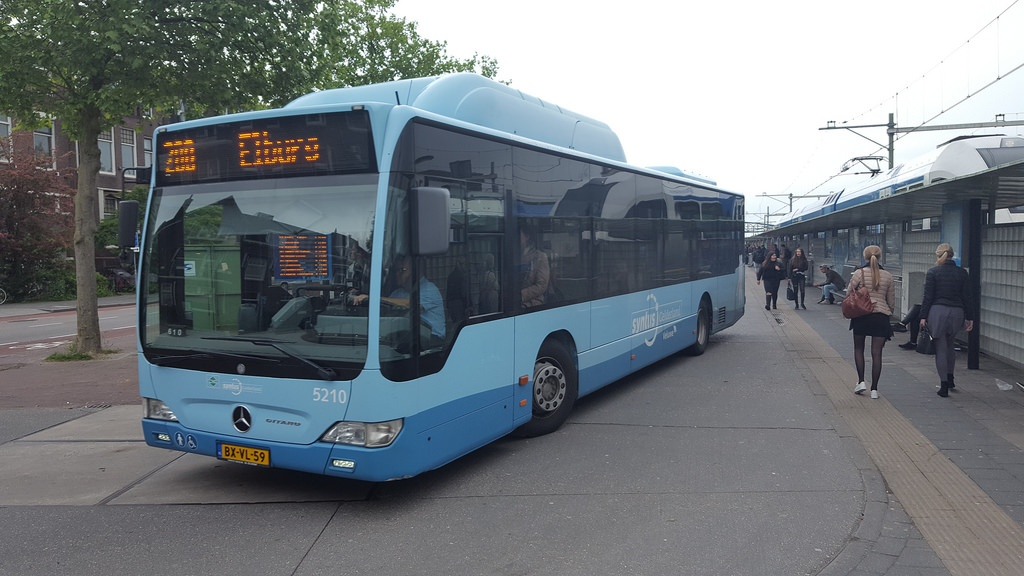bus: (139, 71, 756, 488)
